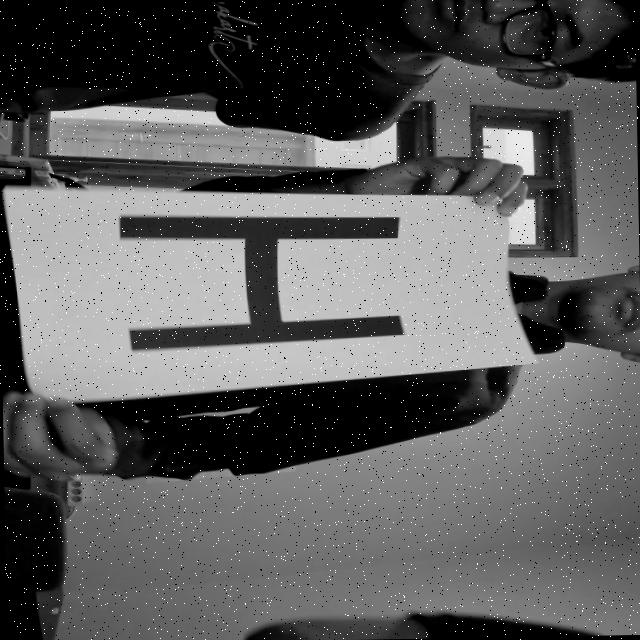h: (88, 200, 431, 367)
